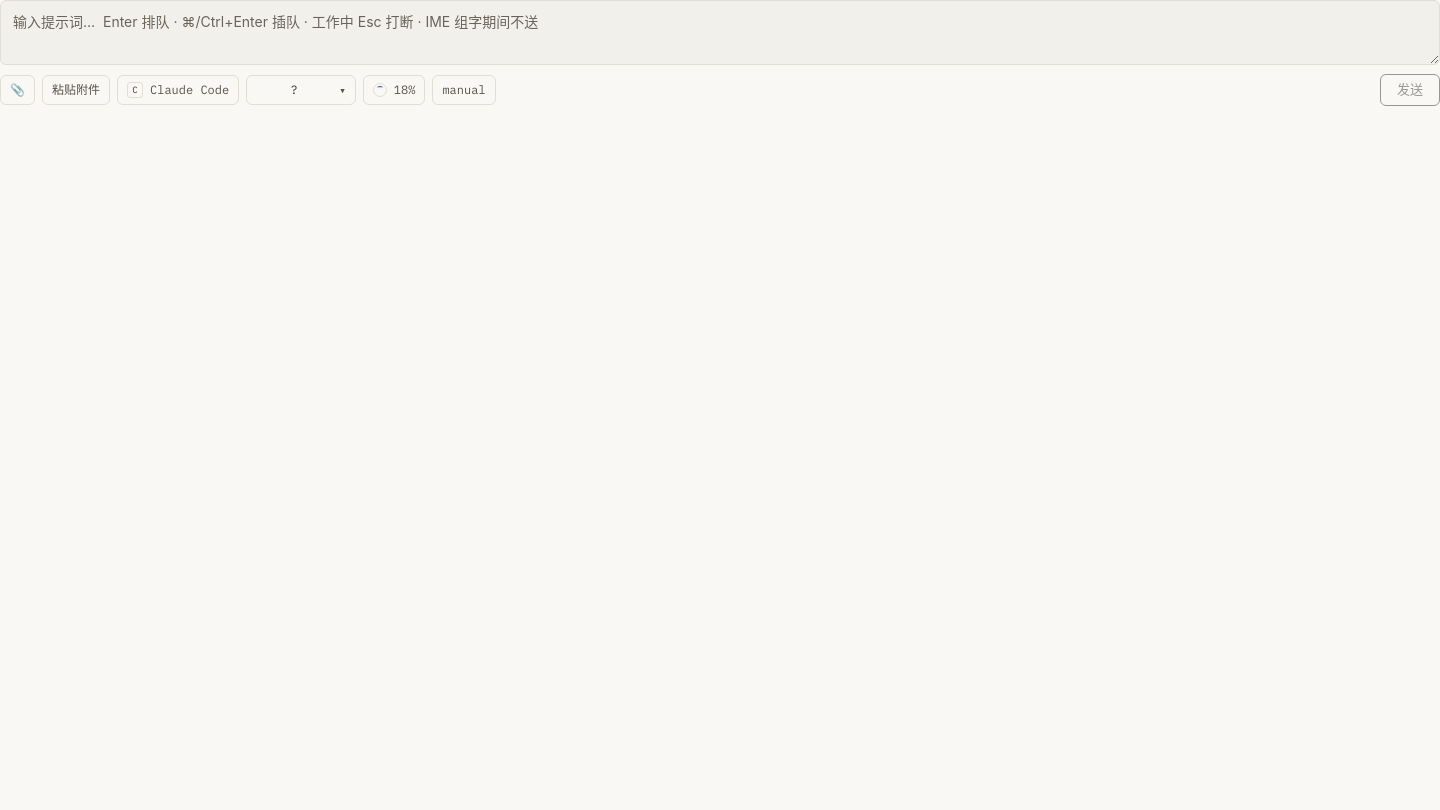
Scenario: Composer context usage chip › drives the ring percentage from the rollup and opens the popover on click
Click the button with test id "context-chip".
click(394, 90)  # box [363, 75, 425, 105]
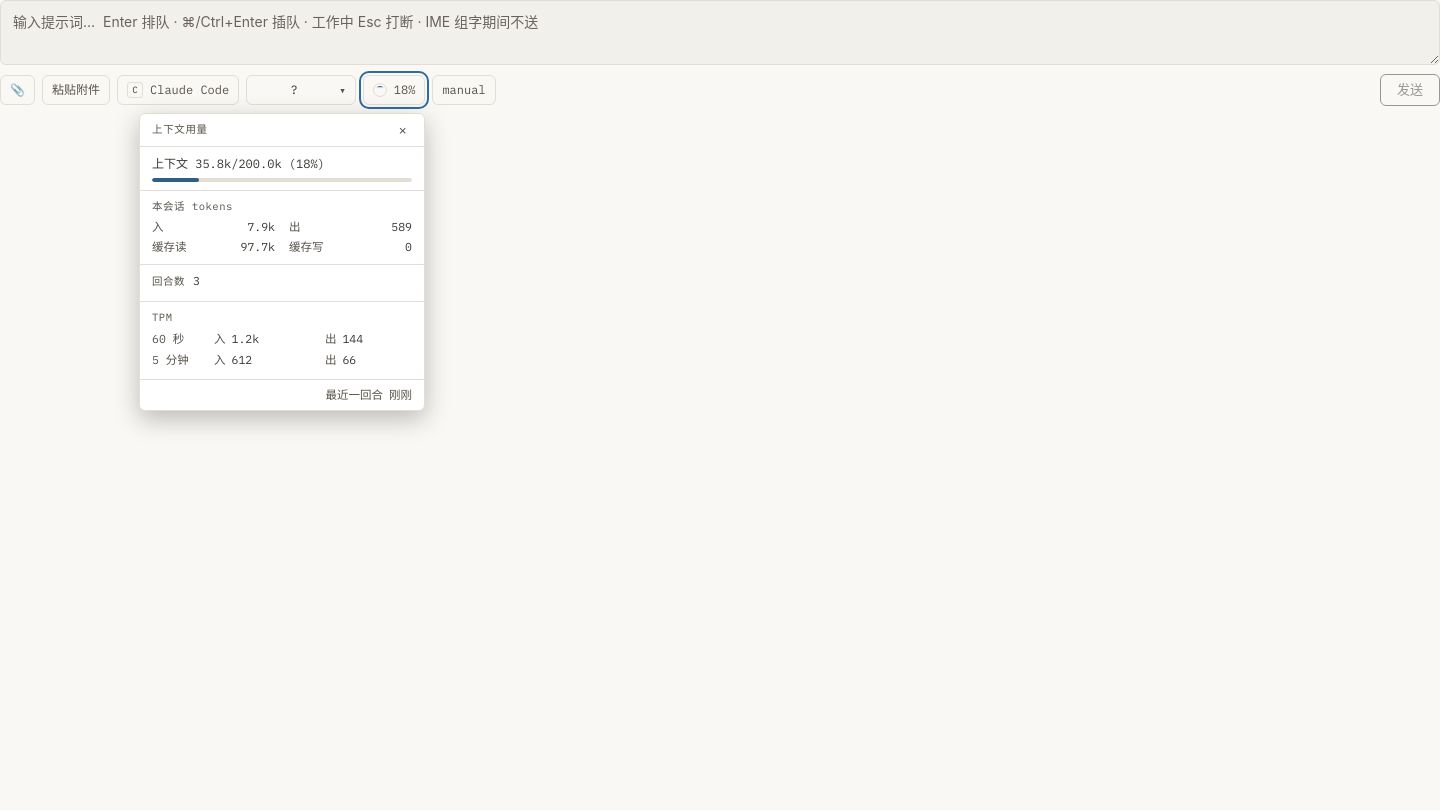
Check: the text with test id "context-usage-headline" shows "35.8k/200.0k (18%)", box [195, 156, 325, 171]
# The close affordance dismisses.
Click the button with test id "context-usage-close".
click(403, 130)  # box [394, 121, 412, 139]
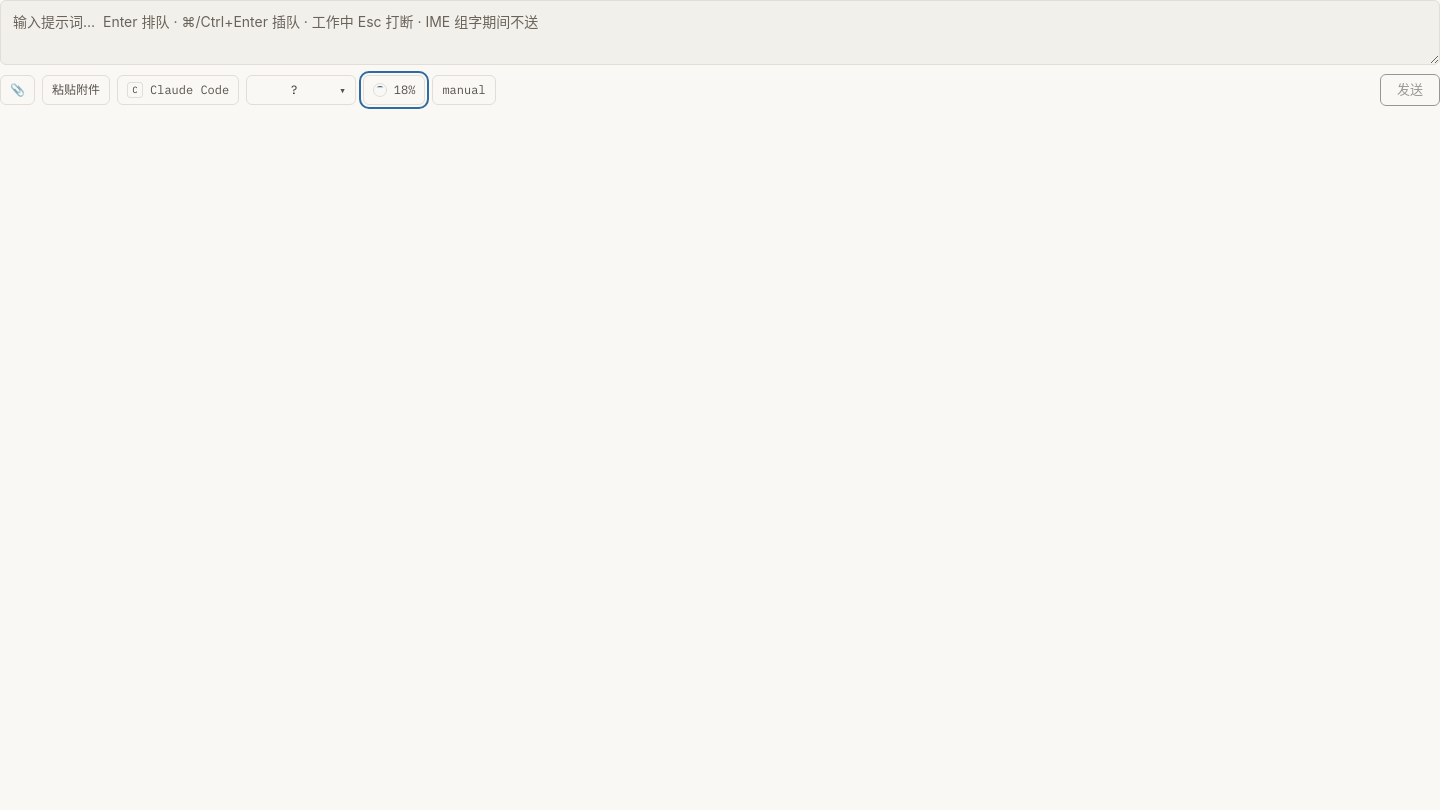
Check: the dialog with test id "context-usage-popover" is gone
